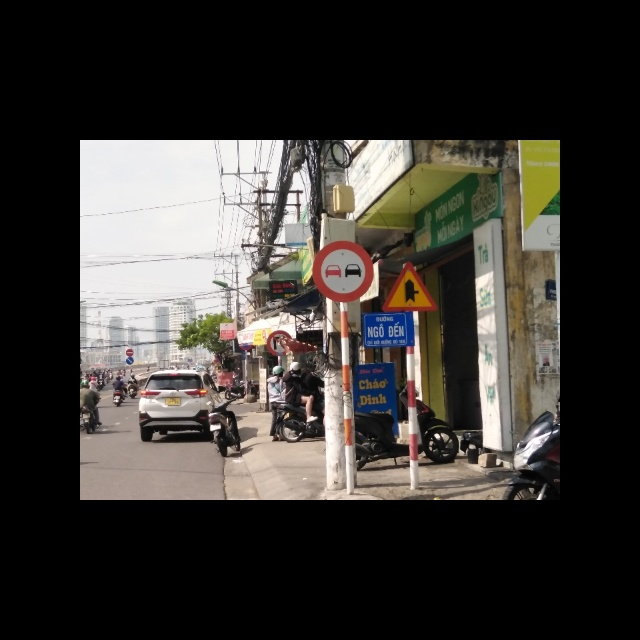Cấm vượt: (313, 239, 374, 301)
Giao nhau với đường không ưu tiên: (382, 259, 440, 312)
